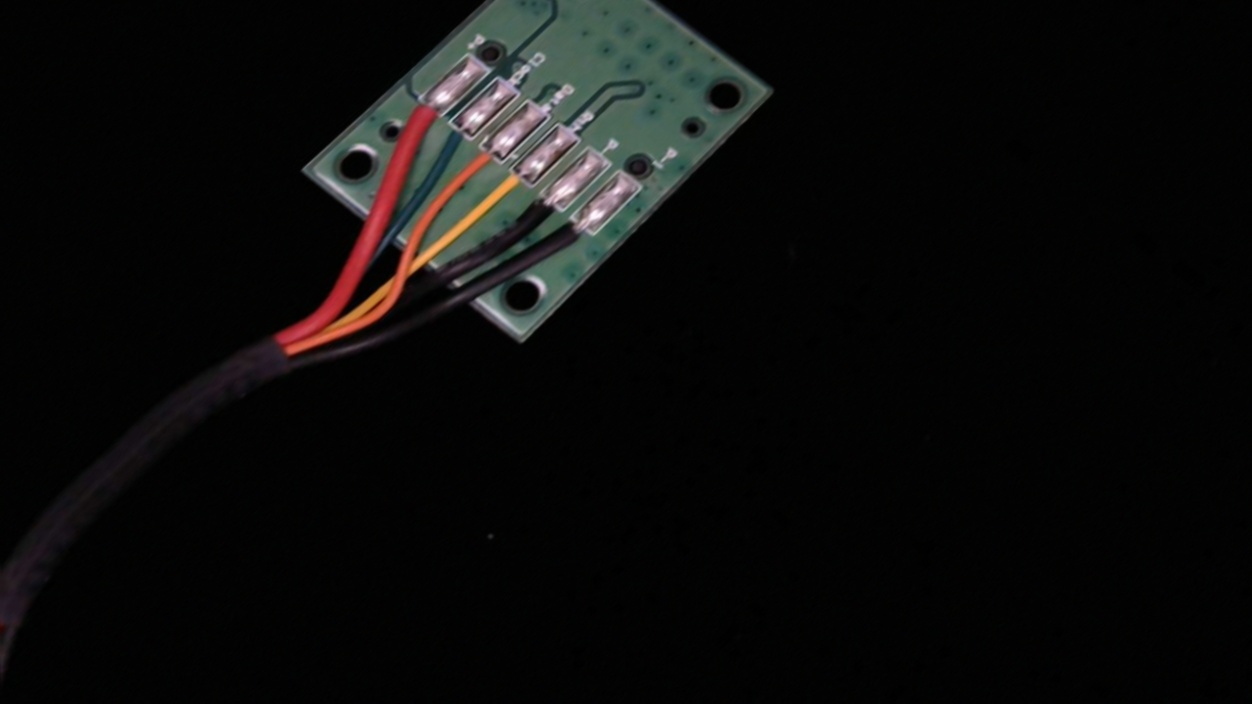Black: (489, 181, 575, 255)
Black1: (524, 205, 606, 277)
Green: (410, 113, 486, 175)
Orange: (437, 134, 516, 199)
Red: (376, 87, 458, 154)
Yellow: (463, 157, 545, 227)
